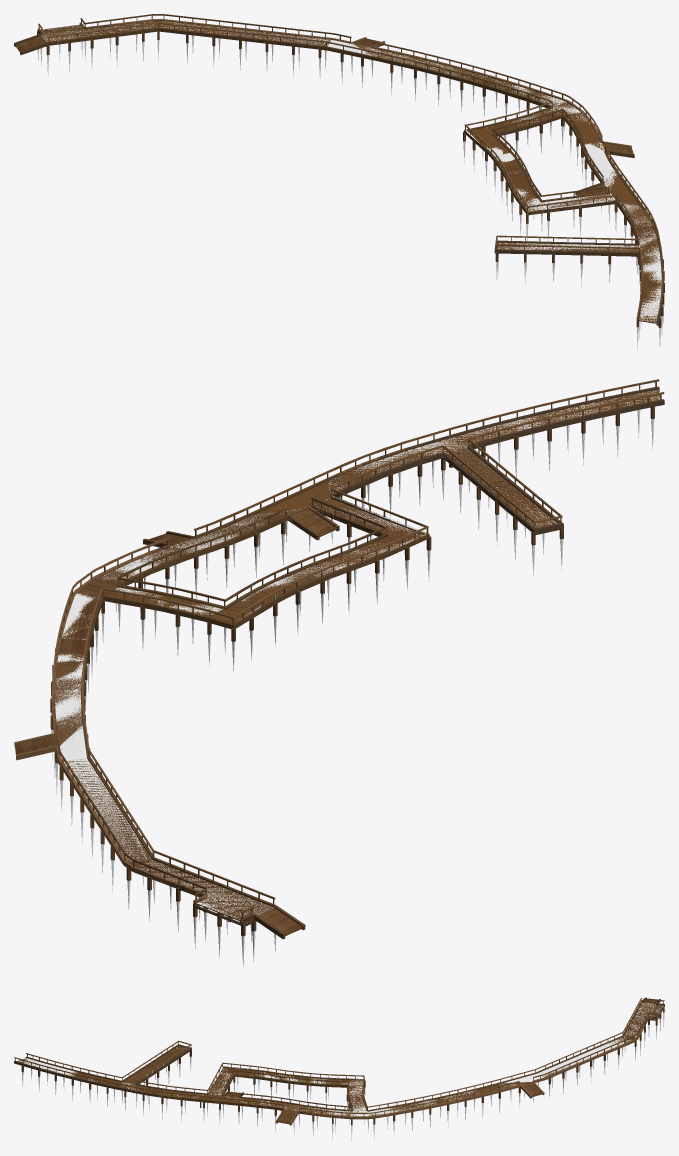
File: objects_un_t04boardwalk01.gltf
The picture shows the model from 3 angles, top to bottom: view 1: azimuth 30°, elevation 25°; view 2: azimuth 150°, elevation 25°; view 3: azimuth 270°, elevation 25°; orthographic projection. The views are drawn at different scales.
Parts seen in each view (by area): view 1: um_objects_un_t04boardwalk01_model_lod0Shape:objects_un_t04b (×3), um_objects_un_t04boardwalk01_model_lod1Shape:objects_un_t04b (×2); view 2: um_objects_un_t04boardwalk01_model_lod0Shape:objects_un_t04b (×3), um_objects_un_t04boardwalk01_model_lod1Shape:objects_un_t04b (×2); view 3: um_objects_un_t04boardwalk01_model_lod0Shape:objects_un_t04b (×3), um_objects_un_t04boardwalk01_model_lod1Shape:objects_un_t04b (×2).
Part boxes in pixels (x1,y1,x2,y2): um_objects_un_t04boardwalk01_model_lod0Shape:objects_un_t04b (×3): (14, 14, 664, 349); um_objects_un_t04boardwalk01_model_lod1Shape:objects_un_t04b (×2): (38, 27, 664, 321); um_objects_un_t04boardwalk01_model_lod0Shape:objects_un_t04b (×3): (14, 379, 664, 966); um_objects_un_t04boardwalk01_model_lod1Shape:objects_un_t04b (×2): (14, 385, 658, 919); um_objects_un_t04boardwalk01_model_lod0Shape:objects_un_t04b (×3): (14, 997, 664, 1140); um_objects_un_t04boardwalk01_model_lod1Shape:objects_un_t04b (×2): (19, 1007, 664, 1119).
Size of what is drawn, in the model's own units: 54.27 by 5.8 by 118.
Materials: 3 (2 with a texture image).
